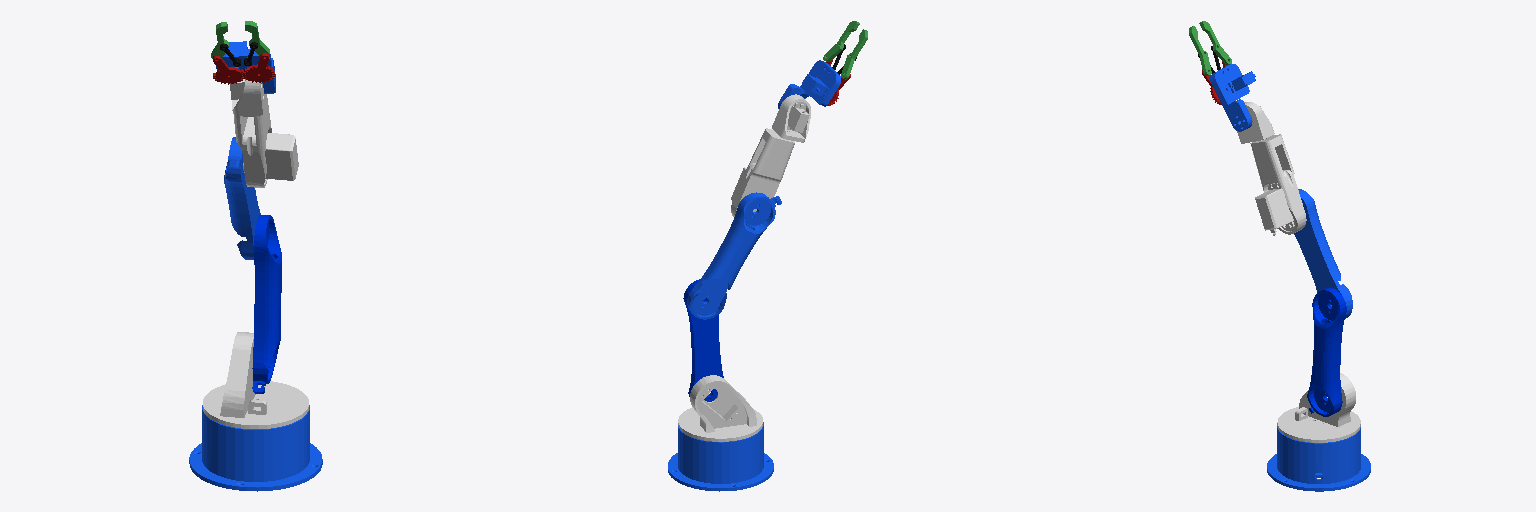
URDF robot description (Robotic Arm_V4.SLDASM):
<?xml version="1.0" encoding="utf-8"?>
<robot
  name="Robotic Arm_V4.SLDASM">
  <link
    name="base_link">
    <inertial>
      <origin
        xyz="0.0399361224539781 -0.103918453700723 0.0588111467708138"
        rpy="0 0 0" />
      <mass
        value="0.0960374647687132" />
      <inertia
        ixx="0.000127992374265441"
        ixy="6.84507669804952E-11"
        ixz="3.91396755618805E-06"
        iyy="0.000137660900428952"
        iyz="4.47337777514632E-12"
        izz="0.000207983638444363" />
    </inertial>
    <visual>
      <origin
        xyz="0 0 0"
        rpy="0 0 0" />
      <geometry>
        <mesh
          filename="package://mct342_robot_description/meshes/base_link.STL" />
      </geometry>
      <material
        name="">
        <color
          rgba="0.12156862745098 0.419607843137255 1 1" />
      </material>
    </visual>
    <collision>
      <origin
        xyz="0 0 0"
        rpy="0 0 0" />
      <geometry>
        <mesh
          filename="package://mct342_robot_description/meshes/base_link.STL" />
      </geometry>
    </collision>
  </link>
  <link
    name="link_1">
    <inertial>
      <origin
        xyz="-0.00643460210920303 0.0172893971363357 -0.00137197240631336"
        rpy="0 0 0" />
      <mass
        value="0.0680382266926049" />
      <inertia
        ixx="5.81331813538312E-05"
        ixy="5.17764381970509E-06"
        ixz="-6.41736919561054E-07"
        iyy="5.467636163819E-05"
        iyz="6.24274411898634E-06"
        izz="4.50177202219463E-05" />
    </inertial>
    <visual>
      <origin
        xyz="0 0 0"
        rpy="0 0 0" />
      <geometry>
        <mesh
          filename="package://mct342_robot_description/meshes/link_1.STL" />
      </geometry>
      <material
        name="">
        <color
          rgba="0.894117647058823 0.894117647058823 0.894117647058823 1" />
      </material>
    </visual>
    <collision>
      <origin
        xyz="0 0 0"
        rpy="0 0 0" />
      <geometry>
        <mesh
          filename="package://mct342_robot_description/meshes/link_1.STL" />
      </geometry>
    </collision>
  </link>
  <joint
    name="joint_0"
    type="revolute">
    <origin
      xyz="0.039819 -0.10392 0.093108"
      rpy="1.5708 0 -0.72299" />
    <parent
      link="base_link" />
    <child
      link="link_1" />
    <axis
      xyz="0 1 0" />
    <limit
      lower="-6.28"
      upper="6.28"
      effort="200"
      velocity="4" />
  </joint>
  <link
    name="link_2">
    <inertial>
      <origin
        xyz="-0.000129817222175782 0.0585891192922847 0.00596913019207884"
        rpy="0 0 0" />
      <mass
        value="0.0643962898087288" />
      <inertia
        ixx="0.000107041684681985"
        ixy="-7.33389163867357E-10"
        ixz="1.89529387420207E-10"
        iyy="9.11026305554698E-06"
        iyz="2.40300282282098E-07"
        izz="0.000111848232510277" />
    </inertial>
    <visual>
      <origin
        xyz="0 0 0"
        rpy="0 0 0" />
      <geometry>
        <mesh
          filename="package://mct342_robot_description/meshes/link_2.STL" />
      </geometry>
      <material
        name="">
        <color
          rgba="0 0.254901960784314 0.92156862745098 1" />
      </material>
    </visual>
    <collision>
      <origin
        xyz="0 0 0"
        rpy="0 0 0" />
      <geometry>
        <mesh
          filename="package://mct342_robot_description/meshes/link_2.STL" />
      </geometry>
    </collision>
  </link>
  <joint
    name="joint_1"
    type="revolute">
    <origin
      xyz="0 0.0404532568712296 -0.013741729606692"
      rpy="1.5707963267949 0.791801188176107 1.5707963267949" />
    <parent
      link="link_1" />
    <child
      link="link_2" />
    <axis
      xyz="0 0 1" />
    <limit
      lower="3.5"
      upper="7.4"
      effort="200"
      velocity="4" />
  </joint>
  <link
    name="link_3">
    <inertial>
      <origin
        xyz="-0.000143952786583634 -0.0653867938057917 0.00904109183211271"
        rpy="0 0 0" />
      <mass
        value="0.0583337652830724" />
      <inertia
        ixx="9.7007777975486E-05"
        ixy="-1.54950249717467E-09"
        ixz="3.41382195659739E-10"
        iyy="8.1726956053479E-06"
        iyz="1.48646583728009E-06"
        izz="0.000101447222558479" />
    </inertial>
    <visual>
      <origin
        xyz="0 0 0"
        rpy="0 0 0" />
      <geometry>
        <mesh
          filename="package://mct342_robot_description/meshes/link_3.STL" />
      </geometry>
      <material
        name="">
        <color
          rgba="0.12156862745098 0.419607843137255 1 1" />
      </material>
    </visual>
    <collision>
      <origin
        xyz="0 0 0"
        rpy="0 0 0" />
      <geometry>
        <mesh
          filename="package://mct342_robot_description/meshes/link_3.STL" />
      </geometry>
    </collision>
  </link>
  <joint
    name="joint_2"
    type="revolute">
    <origin
      xyz="0 0.12 0"
      rpy="3.14159265358979 0 0.578485035291522" />
    <parent
      link="link_2" />
    <child
      link="link_3" />
    <axis
      xyz="0 0 1" />
    <limit
      lower="-2.139"
      upper="3.089"
      effort="200"
      velocity="4" />
  </joint>
  <link
    name="link_4">
    <inertial>
      <origin
        xyz="0.000165984697596849 0.0273983113865617 0.0154247902816369"
        rpy="0 0 0" />
      <mass
        value="0.0841448949644773" />
      <inertia
        ixx="6.41740493836423E-05"
        ixy="-6.95874630942541E-08"
        ixz="-5.15320443567356E-11"
        iyy="1.51313415535736E-05"
        iyz="-5.66702089356367E-07"
        izz="6.41653790202093E-05" />
    </inertial>
    <visual>
      <origin
        xyz="0 0 0"
        rpy="0 0 0" />
      <geometry>
        <mesh
          filename="package://mct342_robot_description/meshes/link_4.STL" />
      </geometry>
      <material
        name="">
        <color
          rgba="0.894117647058823 0.894117647058823 0.894117647058823 1" />
      </material>
    </visual>
    <collision>
      <origin
        xyz="0 0 0"
        rpy="0 0 0" />
      <geometry>
        <mesh
          filename="package://mct342_robot_description/meshes/link_4.STL" />
      </geometry>
    </collision>
  </link>
  <joint
    name="joint_3"
    type="revolute">
    <origin
      xyz="0 -0.12 0"
      rpy="3.14159265358979 0 0.123517495723304" />
    <parent
      link="link_3" />
    <child
      link="link_4" />
    <axis
      xyz="0 0 -1" />
    <limit
      lower="-2.885"
      upper="2.478"
      effort="200"
      velocity="4" />
  </joint>
  <link
    name="link_5">
    <inertial>
      <origin
        xyz="0.00503498951779746 0.00965158232930186 -0.00303659946017706"
        rpy="0 0 0" />
      <mass
        value="0.0217005820190038" />
      <inertia
        ixx="4.2508740532975E-06"
        ixy="1.10640932602326E-08"
        ixz="-4.0191205959261E-09"
        iyy="2.91610972852047E-06"
        iyz="6.15541221776654E-07"
        izz="4.94125620352147E-06" />
    </inertial>
    <visual>
      <origin
        xyz="0 0 0"
        rpy="0 0 0" />
      <geometry>
        <mesh
          filename="package://mct342_robot_description/meshes/link_5.STL" />
      </geometry>
      <material
        name="">
        <color
          rgba="0.894117647058823 0.894117647058823 0.894117647058823 1" />
      </material>
    </visual>
    <collision>
      <origin
        xyz="0 0 0"
        rpy="0 0 0" />
      <geometry>
        <mesh
          filename="package://mct342_robot_description/meshes/link_5.STL" />
      </geometry>
    </collision>
  </link>
  <joint
    name="joint_4"
    type="revolute">
    <origin
      xyz="-0.00504999999999975 0.101175708400649 0.00890000000000027"
      rpy="3.14159265358979 -0.173044621965657 3.14159265358979" />
    <parent
      link="link_4" />
    <child
      link="link_5" />
    <axis
      xyz="0 1 0" />
    <limit
      lower="-6.28"
      upper="6.28"
      effort="200"
      velocity="4" />
  </joint>
  <link
    name="Graber_base">
    <inertial>
      <origin
        xyz="0.00543396155995998 0.0338718542651446 0.00298984589062062"
        rpy="0 0 0" />
      <mass
        value="0.0275109429463549" />
      <inertia
        ixx="9.78514563130742E-06"
        ixy="3.2109572727022E-06"
        ixz="6.57459397363617E-07"
        iyy="5.75007086096842E-06"
        iyz="-1.26171917051065E-06"
        izz="1.35753006862911E-05" />
    </inertial>
    <visual>
      <origin
        xyz="0 0 0"
        rpy="0 0 0" />
      <geometry>
        <mesh
          filename="package://mct342_robot_description/meshes/Graber_base.STL" />
      </geometry>
      <material
        name="">
        <color
          rgba="0.12156862745098 0.419607843137255 1 1" />
      </material>
    </visual>
    <collision>
      <origin
        xyz="0 0 0"
        rpy="0 0 0" />
      <geometry>
        <mesh
          filename="package://mct342_robot_description/meshes/Graber_base.STL" />
      </geometry>
    </collision>
  </link>
  <joint
    name="joint_5"
    type="revolute">
    <origin
      xyz="0.00500000000000003 0.0184242915978769 0"
      rpy="0.199619761768694 1.5707963267949 0" />
    <parent
      link="link_5" />
    <child
      link="Graber_base" />
    <axis
      xyz="-1 0 0" />
    <limit
      lower="-1.527"
      upper="2.071"
      effort="200"
      velocity="4" />
  </joint>
  <link
    name="Gear_1">
    <inertial>
      <origin
        xyz="-0.00348670091310818 0.00335349941701341 0.00115341791676016"
        rpy="0 0 0" />
      <mass
        value="0.00206246735633714" />
      <inertia
        ixx="1.51050989299216E-07"
        ixy="8.36767867207181E-08"
        ixz="6.10120461988658E-08"
        iyy="2.89471646866947E-07"
        iyz="-6.63162426845931E-08"
        izz="2.59776670047498E-07" />
    </inertial>
    <visual>
      <origin
        xyz="0 0 0"
        rpy="0 0 0" />
      <geometry>
        <mesh
          filename="package://mct342_robot_description/meshes/Gear_1.STL" />
      </geometry>
      <material
        name="">
        <color
          rgba="0.694117647058824 0.0980392156862745 0.0980392156862745 1" />
      </material>
    </visual>
    <collision>
      <origin
        xyz="0 0 0"
        rpy="0 0 0" />
      <geometry>
        <mesh
          filename="package://mct342_robot_description/meshes/Gear_1.STL" />
      </geometry>
    </collision>
  </link>
  <joint
    name="Gear1_joint"
    type="revolute">
    <origin
      xyz="-0.0120500000000268 0.0399403953024965 0.0174999999999377"
      rpy="-1.04454964543198 0.209948972305172 -0.653913434313786" />
    <parent
      link="Graber_base" />
    <child
      link="Gear_1" />
    <axis
      xyz="-0.208409992911677 -0.845710980068636 0.491261857918871" />
    <limit
      lower="-0.305"
      upper="1.799"
      effort="200"
      velocity="4" />
  </joint>
  <link
    name="Finger_1">
    <inertial>
      <origin
        xyz="-0.0133817943691433 0.00553066288740334 0.0212574189886718"
        rpy="0 0 0" />
      <mass
        value="0.00230163007155044" />
      <inertia
        ixx="4.76071132865996E-07"
        ixy="-6.39668366423883E-10"
        ixz="3.36028648517354E-07"
        iyy="7.42355819160372E-07"
        iyz="7.85474121932387E-10"
        izz="2.75984915209125E-07" />
    </inertial>
    <visual>
      <origin
        xyz="0 0 0"
        rpy="0 0 0" />
      <geometry>
        <mesh
          filename="package://mct342_robot_description/meshes/Finger_1.STL" />
      </geometry>
      <material
        name="">
        <color
          rgba="0.286274509803922 0.662745098039216 0.329411764705882 1" />
      </material>
    </visual>
    <collision>
      <origin
        xyz="0 0 0"
        rpy="0 0 0" />
      <geometry>
        <mesh
          filename="package://mct342_robot_description/meshes/Finger_1.STL" />
      </geometry>
    </collision>
  </link>
  <joint
    name="Finger_1_joitn"
    type="revolute">
    <origin
      xyz="-0.0239115639757946 0.0131387608413763 0.0124743766090574"
      rpy="-0.513537888373779 0 -0.241617451902228" />
    <parent
      link="Gear_1" />
    <child
      link="Finger_1" />
    <axis
      xyz="0 -1 0" />
    <limit
      lower="-6.28"
      upper="6.28"
      effort="200"
      velocity="4" />
    <mimic
      joint="Gear1_joint"
      multiplier="-1"
      offset="0" />
  </joint>
  <link
    name="Gear_2">
    <inertial>
      <origin
        xyz="-0.00153437242212504 0.00393638372974453 0.00296112156539691"
        rpy="0 0 0" />
      <mass
        value="0.00212256882328141" />
      <inertia
        ixx="2.54860163917883E-07"
        ixy="5.36132604166509E-08"
        ixz="4.9635482735995E-08"
        iyy="2.78408610162061E-07"
        iyz="-1.12224564473043E-07"
        izz="1.8343446775999E-07" />
    </inertial>
    <visual>
      <origin
        xyz="0 0 0"
        rpy="0 0 0" />
      <geometry>
        <mesh
          filename="package://mct342_robot_description/meshes/Gear_2.STL" />
      </geometry>
      <material
        name="">
        <color
          rgba="0.694117647058824 0.0980392156862745 0.0980392156862745 1" />
      </material>
    </visual>
    <collision>
      <origin
        xyz="0 0 0"
        rpy="0 0 0" />
      <geometry>
        <mesh
          filename="package://mct342_robot_description/meshes/Gear_2.STL" />
      </geometry>
    </collision>
  </link>
  <joint
    name="Gear2_joint"
    type="revolute">
    <origin
      xyz="0.0152999999999666 0.0402903953025221 0.0174999999999377"
      rpy="-1.04454964543198 0.209948972305172 -0.653913434313786" />
    <parent
      link="Graber_base" />
    <child
      link="Gear_2" />
    <axis
      xyz="-0.208409992911678 -0.84571098006865 0.491261857918847" />
    <limit
      lower="-6.28"
      upper="6.28"
      effort="200"
      velocity="4" />
    <mimic
      joint="Gear1_joint"
      multiplier="-1"
      offset="0" />
  </joint>
  <link
    name="Finger_2">
    <inertial>
      <origin
        xyz="-0.0194079645922081 -0.015946196232936 0.00553066511696487"
        rpy="0 0 0" />
      <mass
        value="0.00230163000428728" />
      <inertia
        ixx="3.62899217909771E-07"
        ixy="-3.50359111311922E-07"
        ixz="-6.98833140510959E-10"
        iyy="3.8915681657825E-07"
        iyz="-7.33234289809424E-10"
        izz="7.42355806652914E-07" />
    </inertial>
    <visual>
      <origin
        xyz="0 0 0"
        rpy="0 0 0" />
      <geometry>
        <mesh
          filename="package://mct342_robot_description/meshes/Finger_2.STL" />
      </geometry>
      <material
        name="">
        <color
          rgba="0.286274509803922 0.662745098039216 0.329411764705882 1" />
      </material>
    </visual>
    <collision>
      <origin
        xyz="0 0 0"
        rpy="0 0 0" />
      <geometry>
        <mesh
          filename="package://mct342_robot_description/meshes/Finger_2.STL" />
      </geometry>
    </collision>
  </link>
  <joint
    name="Finger_2_joint"
    type="revolute">
    <origin
      xyz="-0.0113327536120727 0.015987532620692 0.0227149179234786"
      rpy="-2.08745294522062 -0.104874688572535 -0.182214038587465" />
    <parent
      link="Gear_2" />
    <child
      link="Finger_2" />
    <axis
      xyz="0 0 -1" />
    <limit
      lower="-6.28"
      upper="6.28"
      effort="200"
      velocity="4" />
    <mimic
      joint="Gear1_joint"
      multiplier="1"
      offset="0" />
  </joint>
  <link
    name="Support_1">
    <inertial>
      <origin
        xyz="0.0118864845295816 0.00809677152849331 0.00167279134632584"
        rpy="0 0 0" />
      <mass
        value="0.000426127114488937" />
      <inertia
        ixx="2.04062000598078E-08"
        ixy="-2.7812831486164E-08"
        ixz="8.75214667386159E-10"
        iyy="4.22914980963441E-08"
        iyz="5.96174014493217E-10"
        izz="6.17403414140676E-08" />
    </inertial>
    <visual>
      <origin
        xyz="0 0 0"
        rpy="0 0 0" />
      <geometry>
        <mesh
          filename="package://mct342_robot_description/meshes/Support_1.STL" />
      </geometry>
      <material
        name="">
        <color
          rgba="0.101960784313725 0.101960784313725 0.101960784313725 1" />
      </material>
    </visual>
    <collision>
      <origin
        xyz="0 0 0"
        rpy="0 0 0" />
      <geometry>
        <mesh
          filename="package://mct342_robot_description/meshes/Support_1.STL" />
      </geometry>
    </collision>
  </link>
  <joint
    name="Support_1_joint"
    type="revolute">
    <origin
      xyz="-0.00320000000004006 0.0597903953025035 0.0174999999999377"
      rpy="3.14159265358979 0 2.48767921927601" />
    <parent
      link="Graber_base" />
    <child
      link="Support_1" />
    <axis
      xyz="0 0 1" />
    <limit
      lower="-6.28"
      upper="6.28"
      effort="200"
      velocity="4" />
    <mimic
      joint="Gear1_joint"
      multiplier="-1"
      offset="0" />
  </joint>
  <link
    name="Support_2">
    <inertial>
      <origin
        xyz="-0.00510971072916819 0.00907840502360935 0.0100557383138421"
        rpy="0 0 0" />
      <mass
        value="0.000426127114488939" />
      <inertia
        ixx="5.2481289166248E-08"
        ixy="1.19551314427543E-08"
        ixz="1.74709475729369E-08"
        iyy="4.5578456856051E-08"
        iyz="-2.38996803606665E-08"
        izz="2.63782935479207E-08" />
    </inertial>
    <visual>
      <origin
        xyz="0 0 0"
        rpy="0 0 0" />
      <geometry>
        <mesh
          filename="package://mct342_robot_description/meshes/Support_2.STL" />
      </geometry>
      <material
        name="">
        <color
          rgba="0.101960784313725 0.101960784313725 0.101960784313725 1" />
      </material>
    </visual>
    <collision>
      <origin
        xyz="0 0 0"
        rpy="0 0 0" />
      <geometry>
        <mesh
          filename="package://mct342_robot_description/meshes/Support_2.STL" />
      </geometry>
    </collision>
  </link>
  <joint
    name="Support_2_joint"
    type="revolute">
    <origin
      xyz="0.0068 0.05979 0.0175"
      rpy="-1.0445 0.20995 -0.65391" />
    <parent
      link="Graber_base" />
    <child
      link="Support_2" />
    <axis
      xyz="0.20841 0.84571 -0.49126" />
    <limit
      lower="-6.28"
      upper="6.28"
      effort="200"
      velocity="4" />
    <mimic
      joint="Gear1_joint"
      multiplier="1"
      offset="0" />
  </joint>
</robot>

--- Render facts (derived) ---
3 views of the same robot in one strip: view 1: azimuth 30°, elevation 25°; view 2: azimuth 150°, elevation 25°; view 3: azimuth 270°, elevation 25° (orthographic).
Robot: Robotic Arm_V4.SLDASM — 13 links, 12 joints (12 revolute); root link base_link; default pose: all joints at 0 but 1 set to mid-range because 0 is outside their limits (joint_1 = 5.45).
Links seen in each view (by area): view 1: base_link, link_1, link_2, link_4, link_3, link_5, Graber_base, Gear_2, Gear_1; view 2: base_link, link_3, link_1, link_4, link_2, Graber_base, link_5; view 3: base_link, link_2, link_4, link_1, link_3, Graber_base, link_5.
Link boxes in pixels (box(x1,y1,x2,y2)): base_link: box(189, 405, 322, 491); link_1: box(203, 332, 308, 428); link_2: box(252, 215, 281, 393); link_4: box(234, 94, 298, 187); link_3: box(224, 137, 260, 259); link_5: box(230, 79, 263, 115); Graber_base: box(216, 41, 275, 93); Gear_2: box(243, 53, 274, 82); Gear_1: box(213, 56, 244, 84); base_link: box(668, 422, 773, 491); link_3: box(687, 192, 781, 319); link_1: box(678, 375, 762, 441); link_4: box(731, 128, 794, 216); link_2: box(683, 279, 723, 401); Graber_base: box(778, 60, 840, 108); link_5: box(772, 94, 810, 142); base_link: box(1267, 426, 1370, 491); link_2: box(1307, 288, 1346, 416); link_4: box(1250, 134, 1306, 235); link_1: box(1277, 373, 1360, 442); link_3: box(1294, 189, 1352, 318); Graber_base: box(1210, 64, 1255, 131); link_5: box(1237, 102, 1274, 143).
Size in the robot's own frame: 0.1787 by 0.2121 by 0.5247 metres.
Meshes: 13 distinct files referenced, 13 mesh visuals loaded (13 binary STL).
